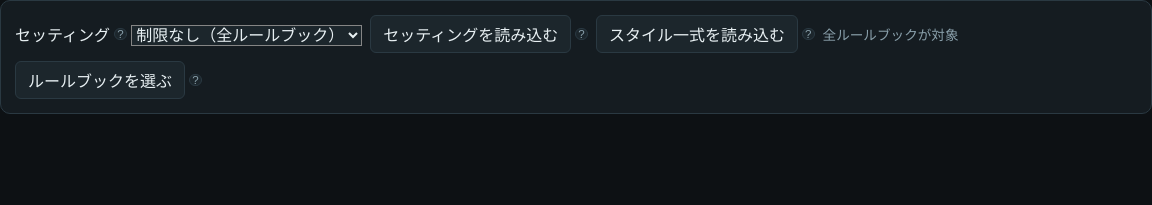
SettingsPicker › titles a book by its own translation, not the entity that shares its name
The width and height of the screenshot is (1152, 205).
Click the button "ルールブックを選ぶ" at (100, 80), box top-left (15, 61), bottom-right (185, 99)
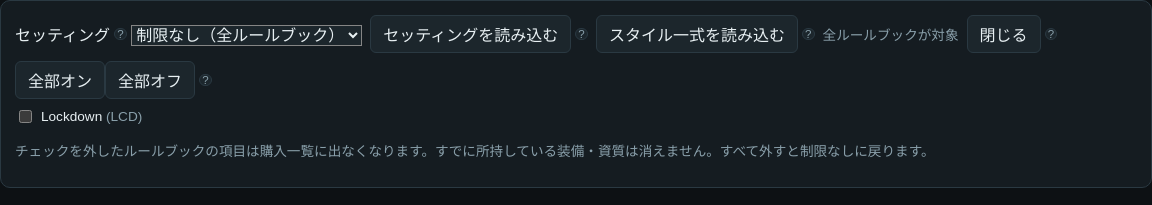
Expected: the checkbox labelled "Lockdown (LCD)" is shown, top-left (19, 110), bottom-right (32, 123)
